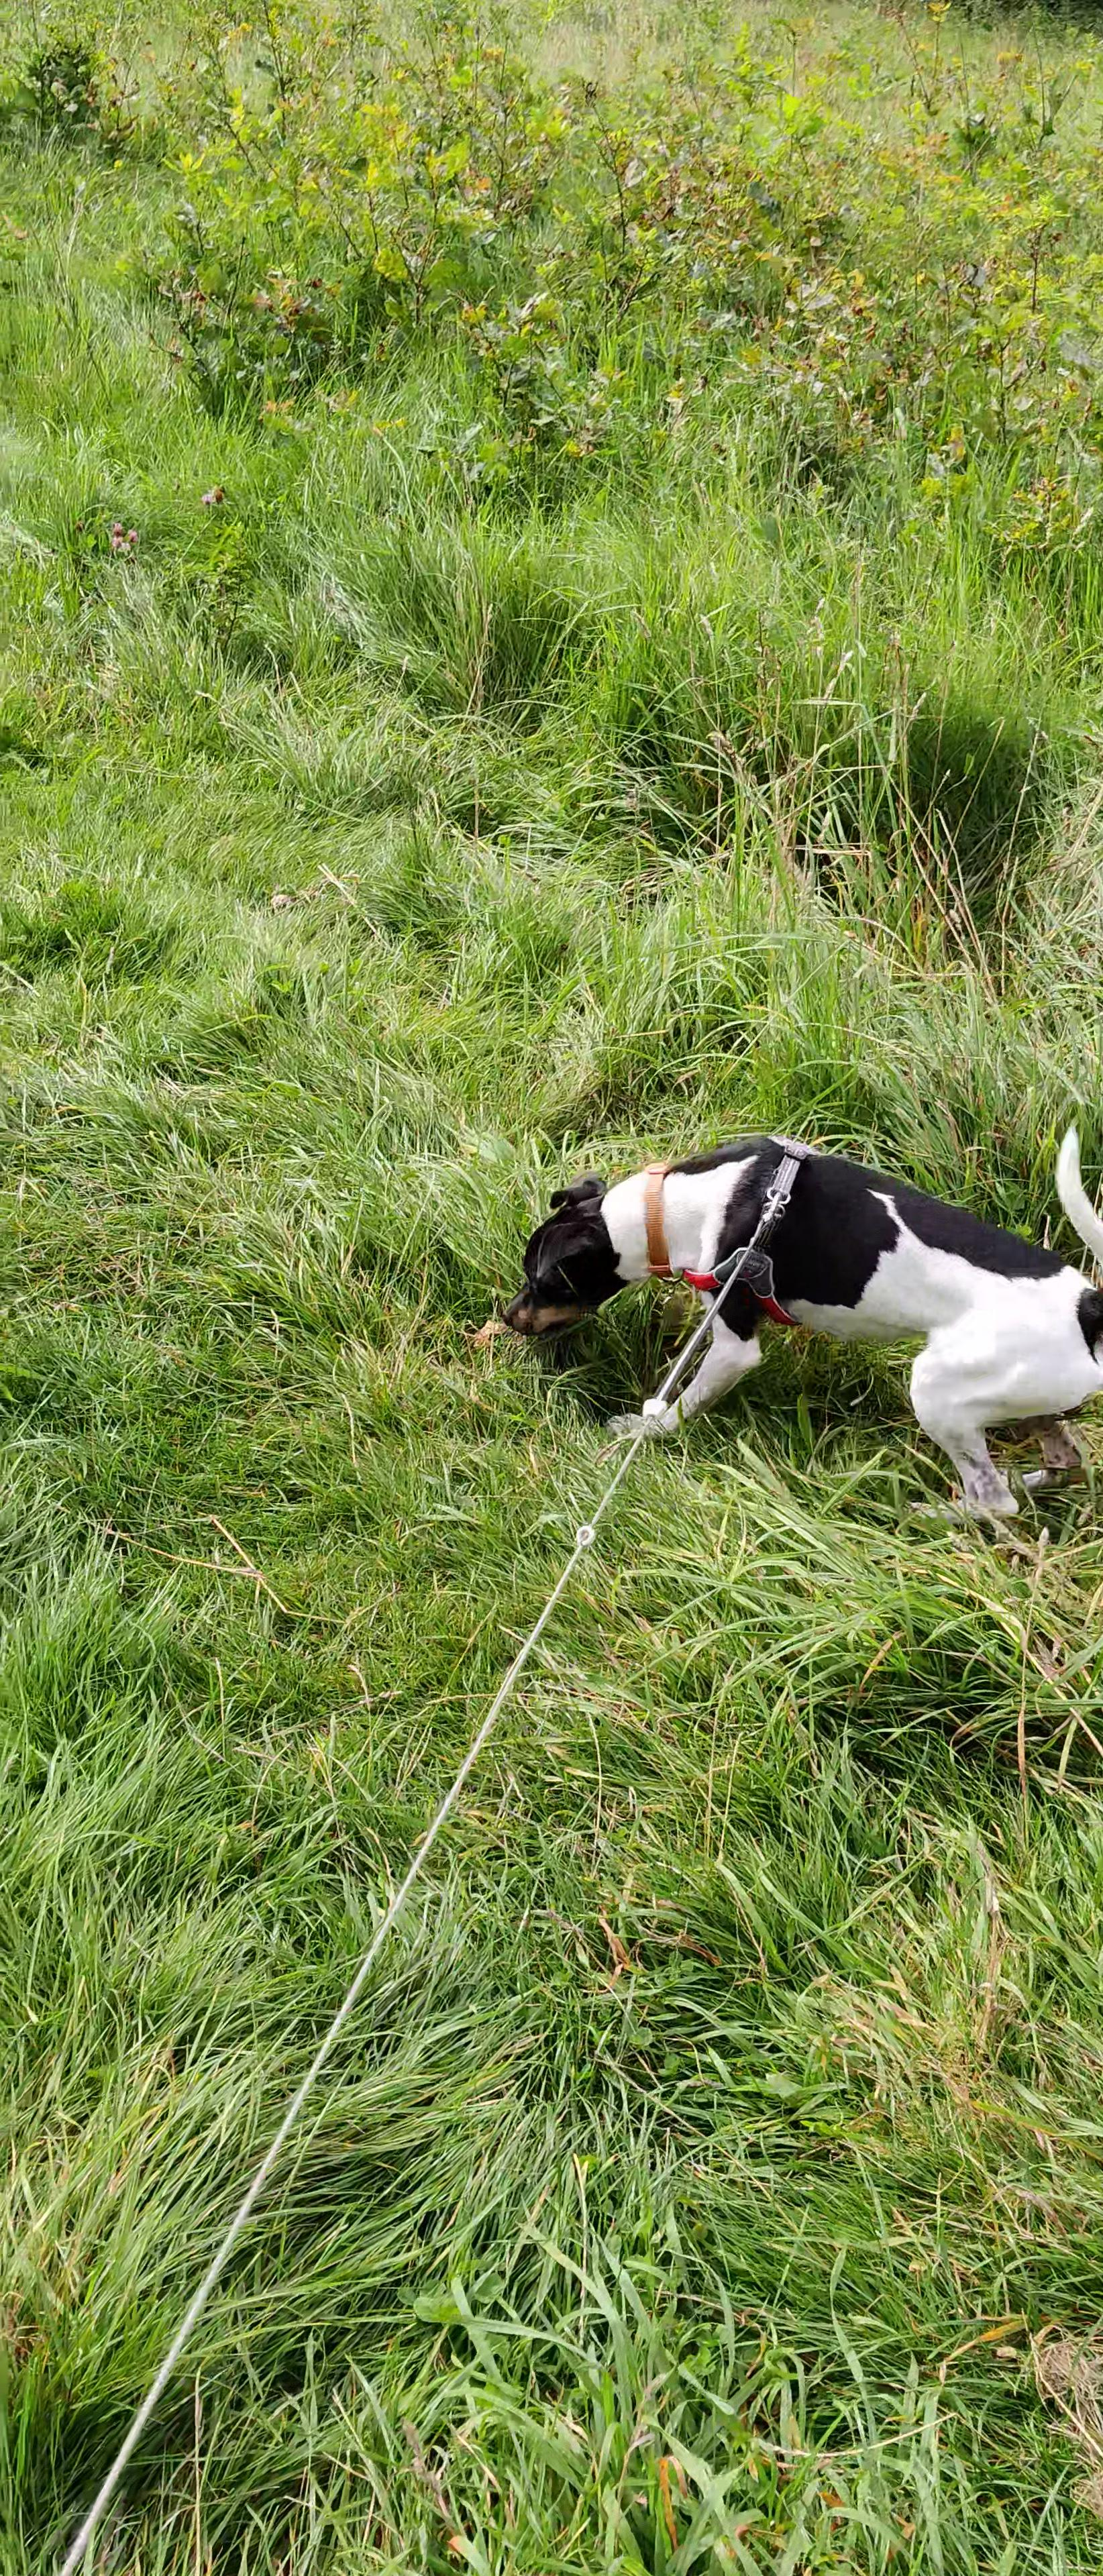Dog: (478, 1092, 1103, 1541)
